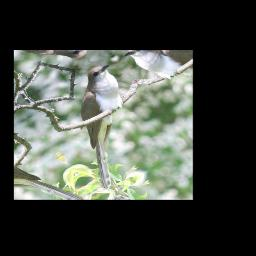Cuckoo: (27, 60, 183, 192)
